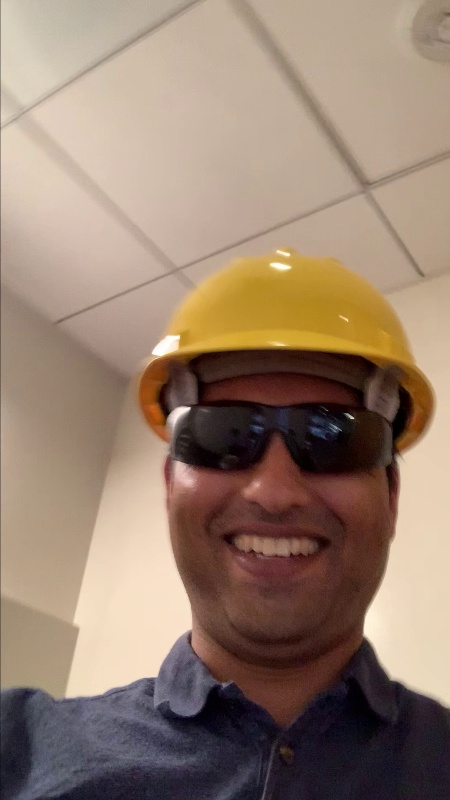glasses: (156, 395, 403, 482)
helmet: (122, 244, 442, 412)
